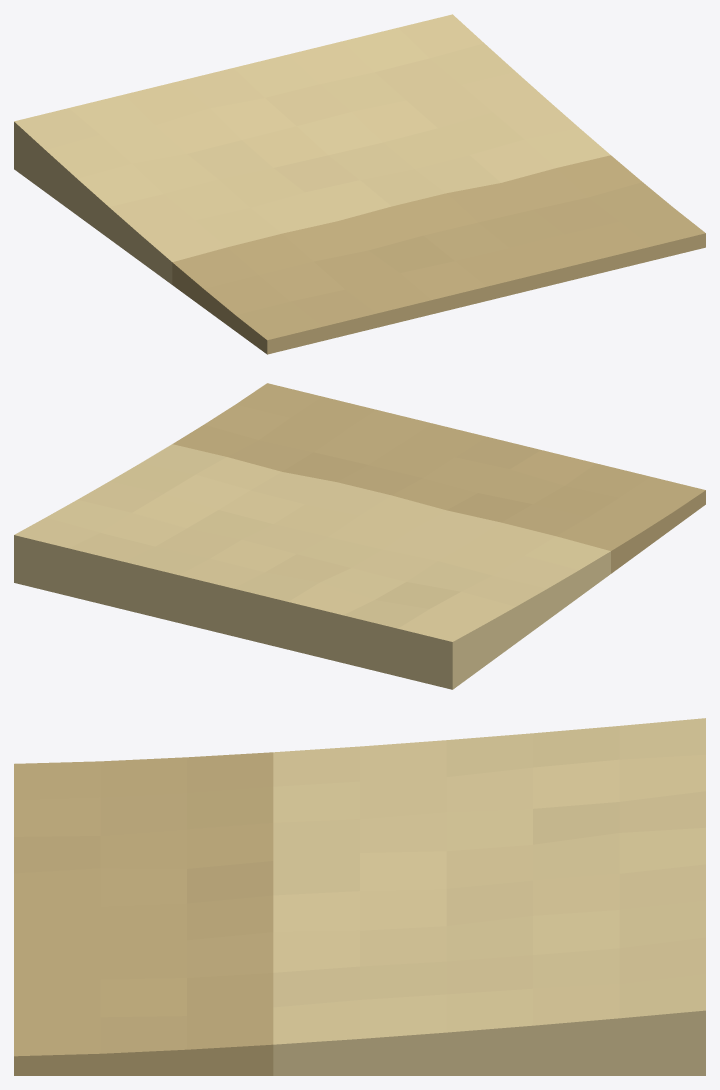
Rendered from BeachSlope.fbx.
The picture shows the model from 3 angles, top to bottom: view 1: azimuth 30°, elevation 25°; view 2: azimuth 150°, elevation 25°; view 3: azimuth 270°, elevation 25°; orthographic projection. The views are drawn at different scales.
Visible parts, largest first — view 1: BeachSlope_Sand, BeachSlope_WetSand; view 2: BeachSlope_Sand, BeachSlope_WetSand; view 3: BeachSlope_Sand, BeachSlope_WetSand.
Boxes of the visible parts, box(x1,y1,x2,y2) form: BeachSlope_Sand: box(14, 14, 610, 284); BeachSlope_WetSand: box(172, 155, 705, 354); BeachSlope_Sand: box(14, 444, 610, 689); BeachSlope_WetSand: box(172, 383, 705, 573); BeachSlope_Sand: box(273, 718, 705, 1075); BeachSlope_WetSand: box(14, 752, 273, 1075).
Size of the model in its own units: 48 by 5 by 48.
